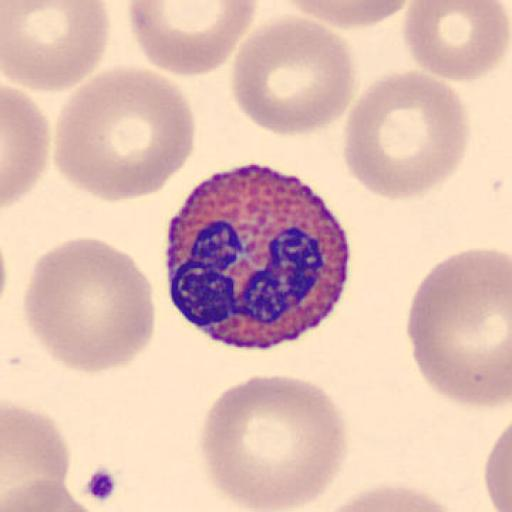RBC: (196, 374, 348, 512), (53, 65, 194, 203), (22, 236, 156, 373), (342, 69, 472, 203), (404, 248, 512, 406), (229, 14, 356, 138), (1, 0, 111, 93), (126, 1, 259, 77), (401, 0, 512, 82), (2, 401, 72, 510), (2, 83, 51, 208), (311, 482, 464, 512), (277, 0, 416, 30), (1, 476, 99, 512), (483, 420, 512, 511)
WBC: (162, 158, 351, 350)
